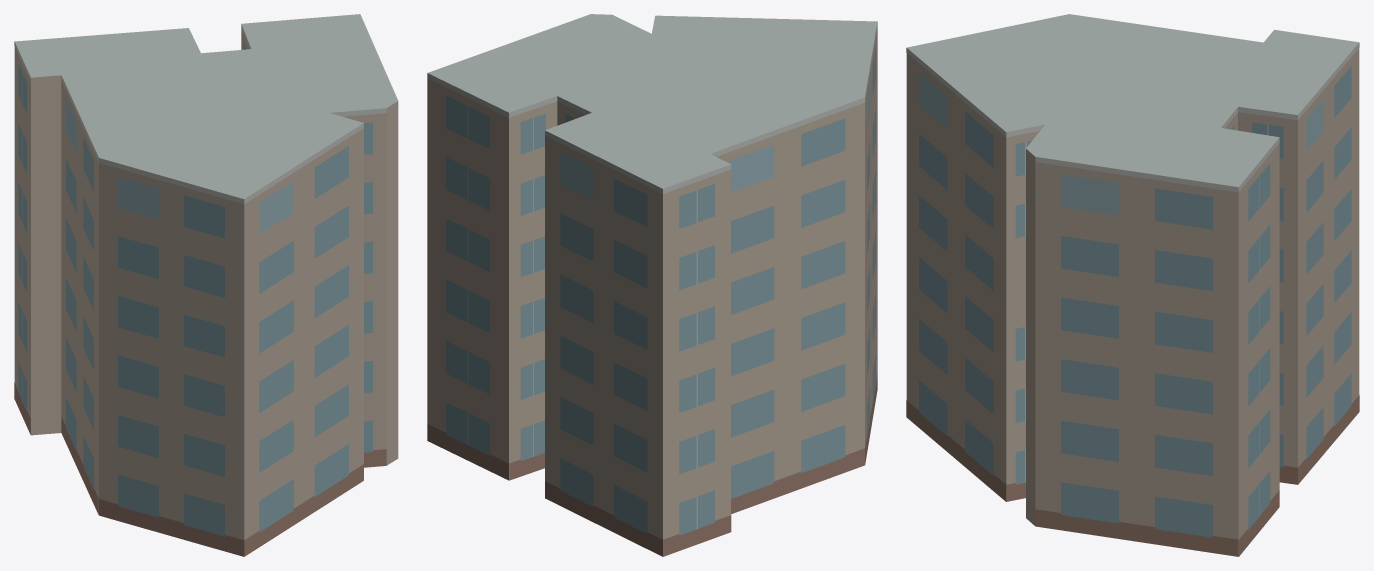
The model's file is survey-upis-32705368.glb.
3 views of the same model, side by side, from view 1: azimuth 30°, elevation 25°; view 2: azimuth 150°, elevation 25°; view 3: azimuth 270°, elevation 25° (orthographic). The views are drawn at different scales.
Parts seen in each view (by area): view 1: survey-upis-32705368.tmp; view 2: survey-upis-32705368.tmp; view 3: survey-upis-32705368.tmp.
Boxes of the visible parts, x1,y1,x2,y2 form: survey-upis-32705368.tmp: [14, 14, 398, 556]; survey-upis-32705368.tmp: [427, 14, 877, 556]; survey-upis-32705368.tmp: [906, 14, 1359, 556].
Size of the model in its own units: 17.29 by 17.2 by 19.11.
